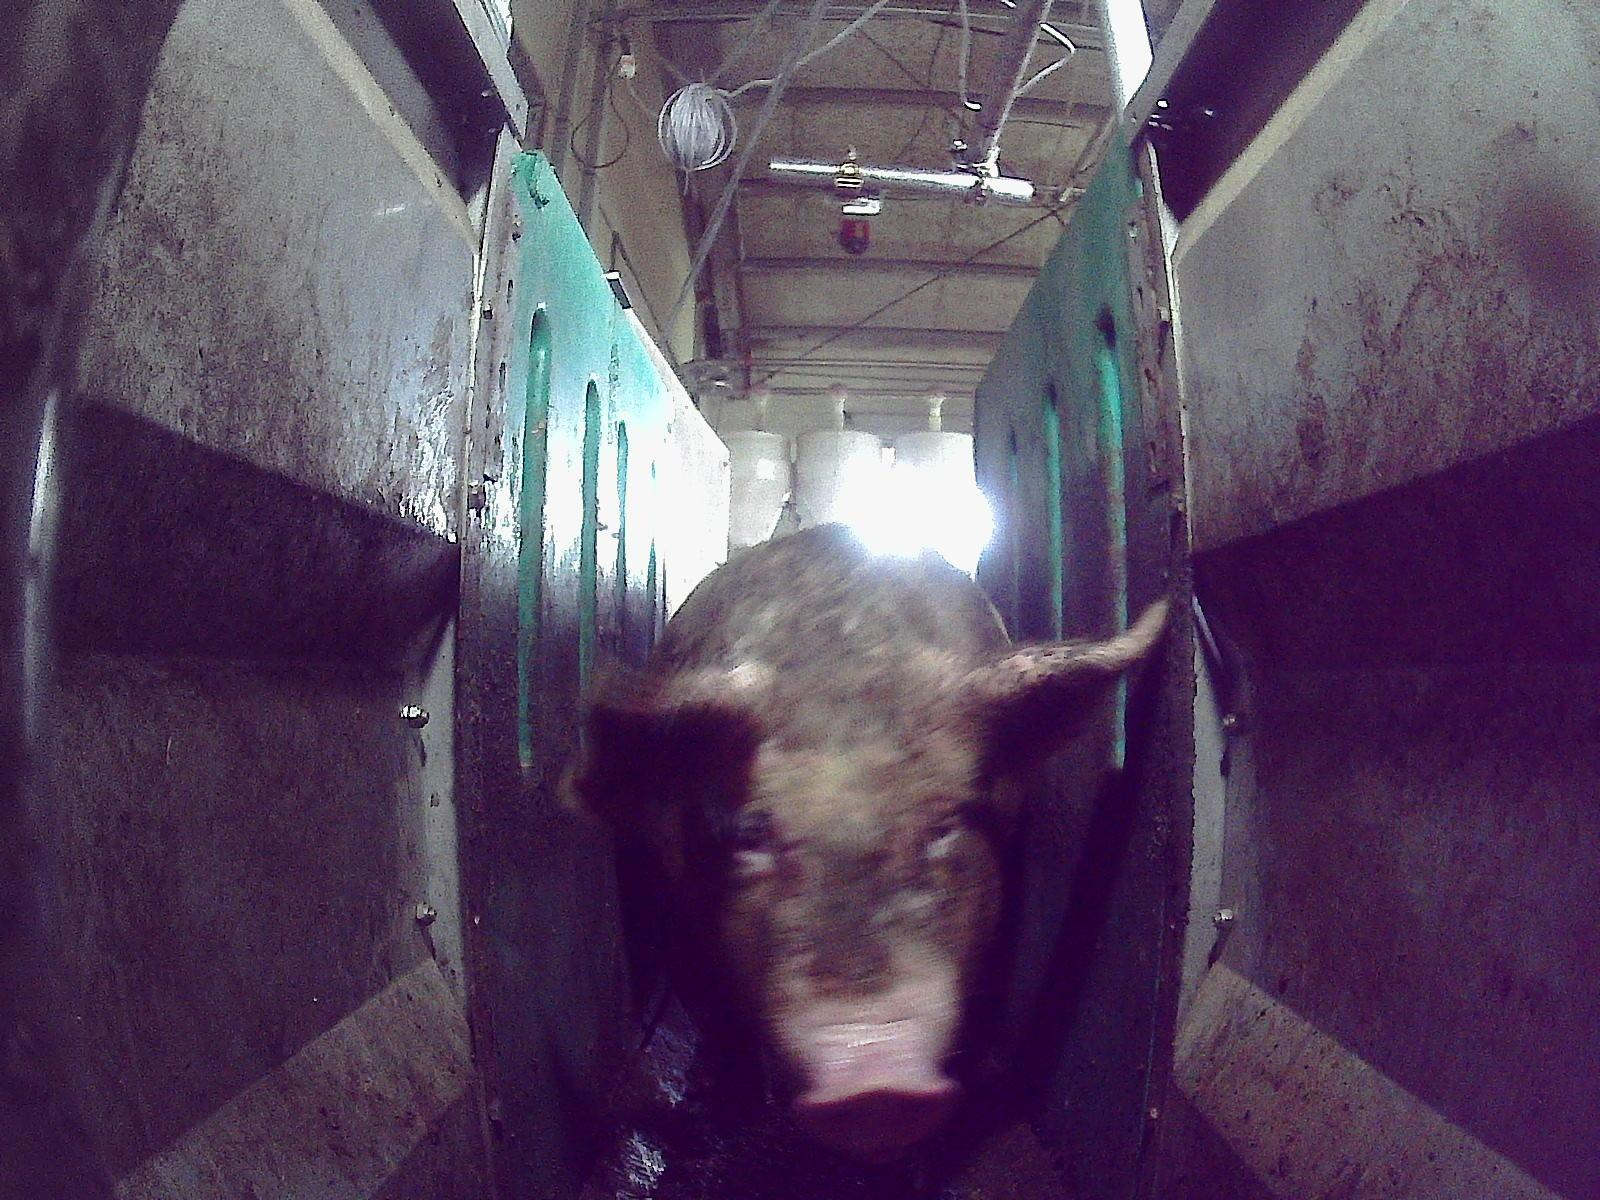Face: (689, 678, 1007, 1162)
